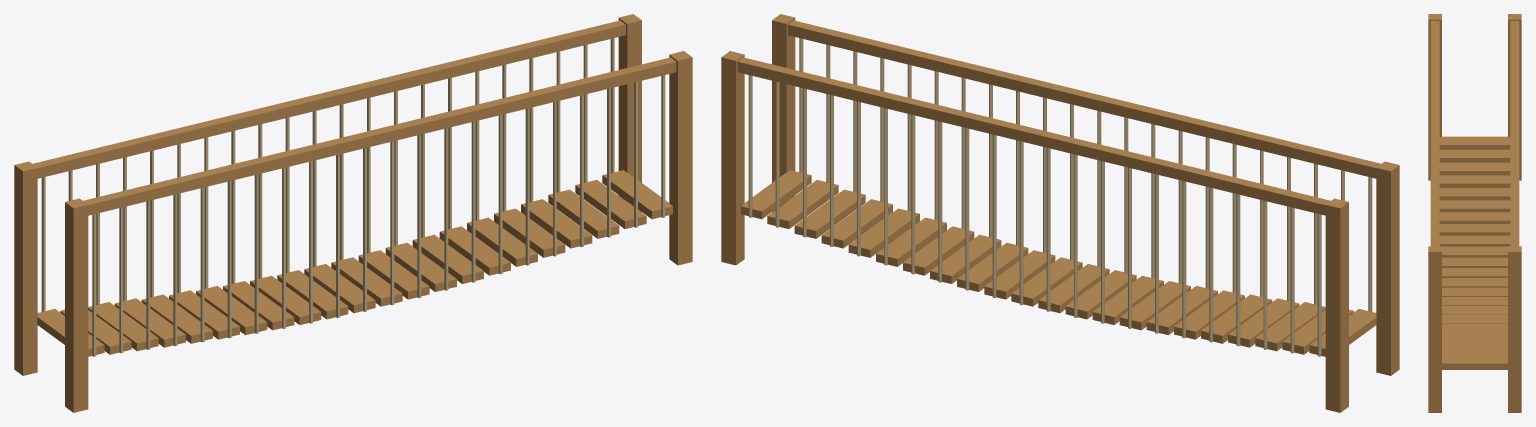
3 renders of one model, left to right at view 1: azimuth 30°, elevation 25°; view 2: azimuth 150°, elevation 25°; view 3: azimuth 270°, elevation 25°, orthographic. The views are drawn at different scales.
Visible parts, largest first — view 1: SW-A407; view 2: SW-A407; view 3: SW-A407.
Part boxes in pixels (x1,y1,x2,y2): SW-A407: [14, 14, 692, 412]; SW-A407: [721, 14, 1399, 412]; SW-A407: [1428, 14, 1521, 412].
Bounding box in the file's own units: 3.8 × 1.2 × 0.63.
